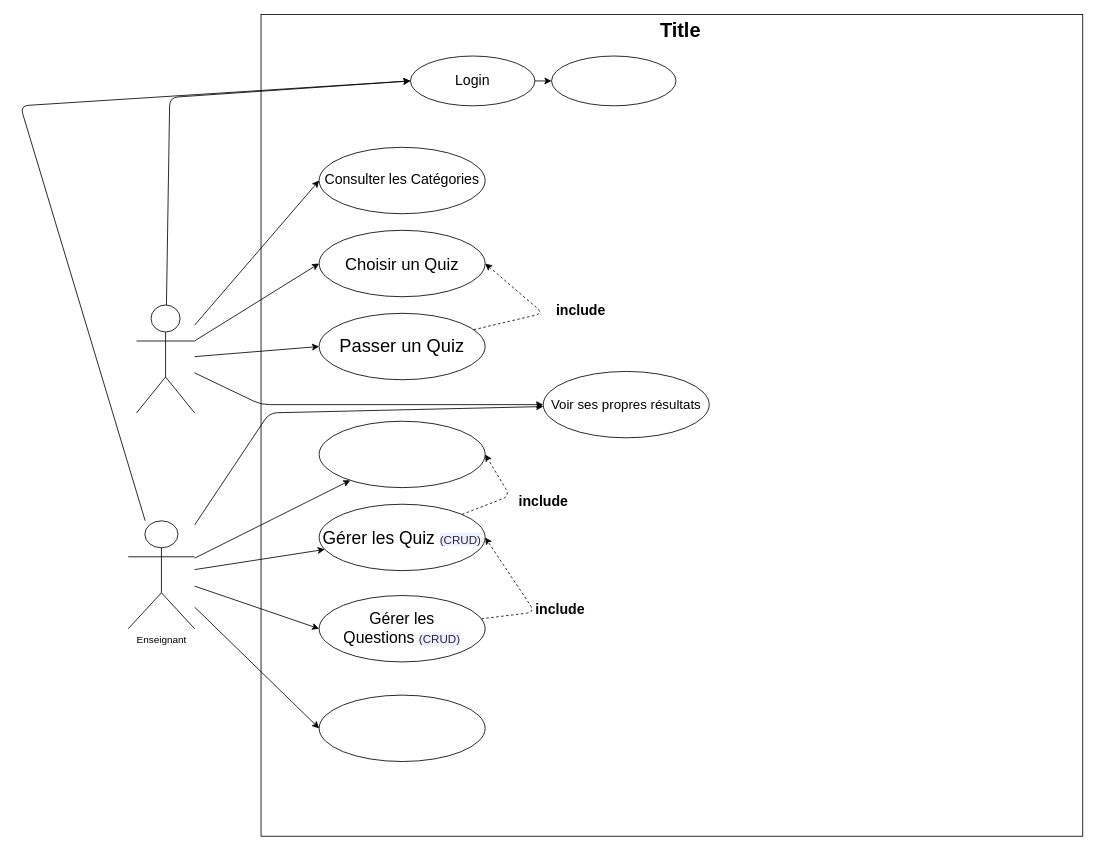
The diagram is 1097 pixels wide and 851 high, and some of its shapes have lost their labels. Here are the shapes that lost their labels. From the top down, the centre of each, then its label:
point 613,80: Logout
point 165,358: Étudiant
point 401,454: Gérer les Catégories (CRUD)
point 401,728: Voir les Statistiques
